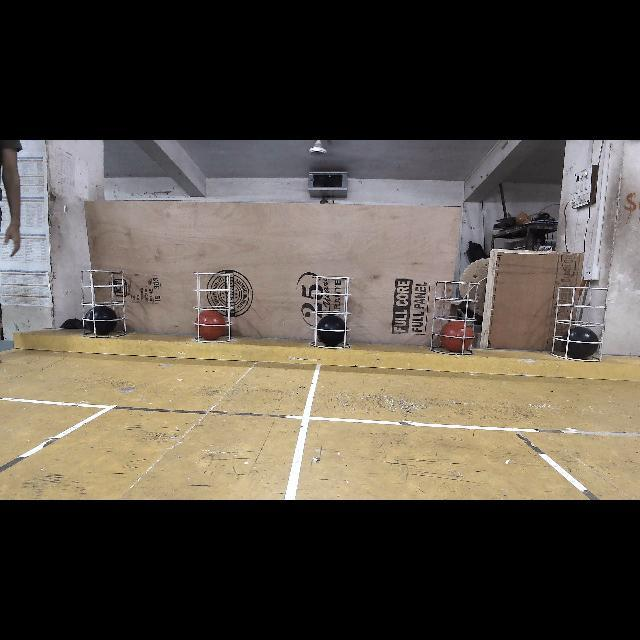P: (562, 327, 598, 359), (83, 307, 117, 335), (316, 318, 348, 344)
R: (442, 322, 474, 350), (196, 311, 227, 339)
S: (74, 264, 134, 342), (426, 281, 484, 359), (550, 280, 606, 360), (304, 269, 356, 349), (192, 266, 235, 344)
